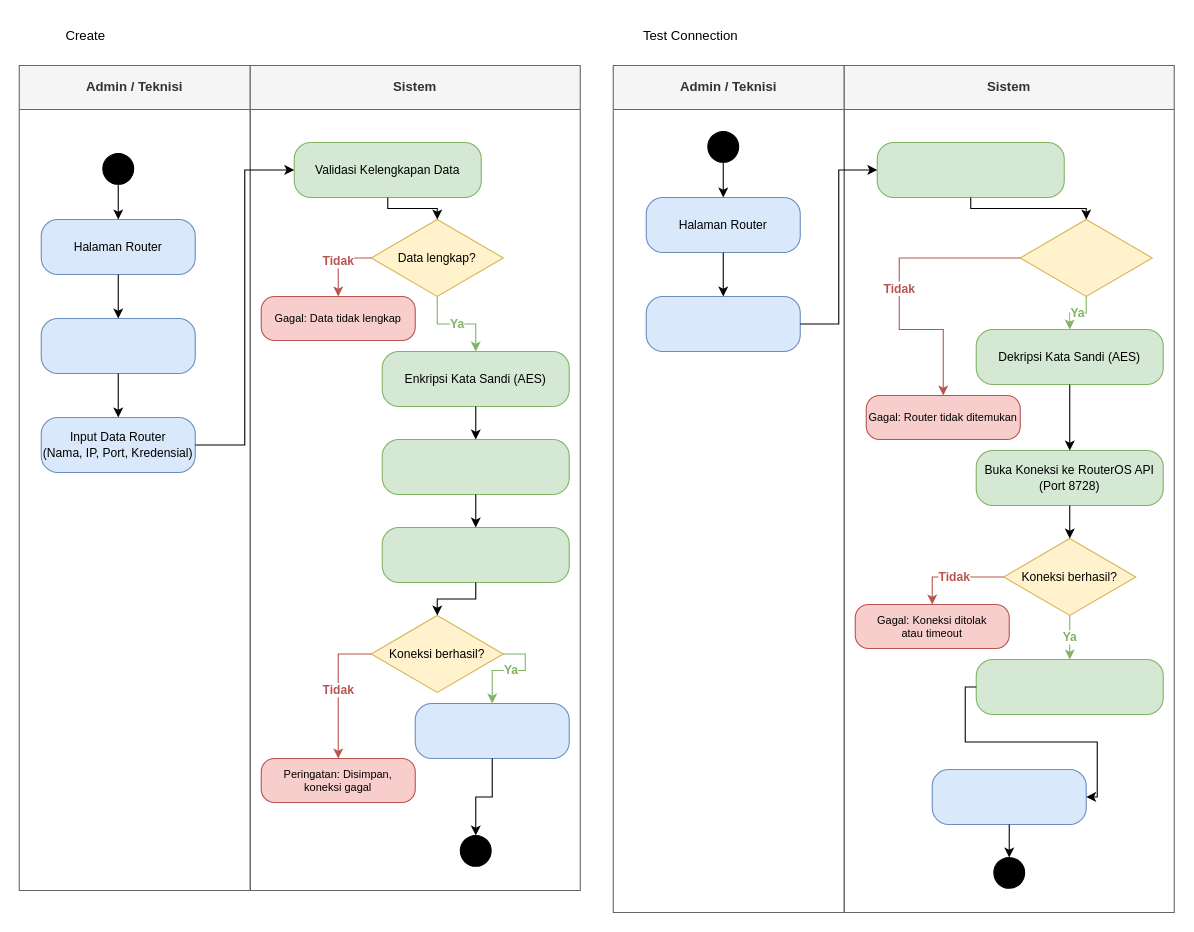
Some shapes in this 1194 by 932 pixel diagram are drawn without their labels. Each missing label, with the centre of its shape:
"Ambil Data Router Berdasarkan ID" goes at (x=970, y=169).
"Berhasil: Router ditambahkan dan terhubung" goes at (x=491, y=730).
"Berhasil: Router online dan dapat dihubungi" goes at (x=1008, y=796).
"Klik Tombol Tambah Router" goes at (x=117, y=345).
"Perbarui Status Router & last_seen_at" goes at (x=1069, y=686).
"Pilih Router & Klik Tes Koneksi" goes at (x=722, y=323).
"Router ditemukan?" goes at (x=1085, y=257).
"Simpan Data Router ke Database" goes at (x=475, y=466).
"Uji Koneksi Awal ke RouterOS API" goes at (x=475, y=554).
